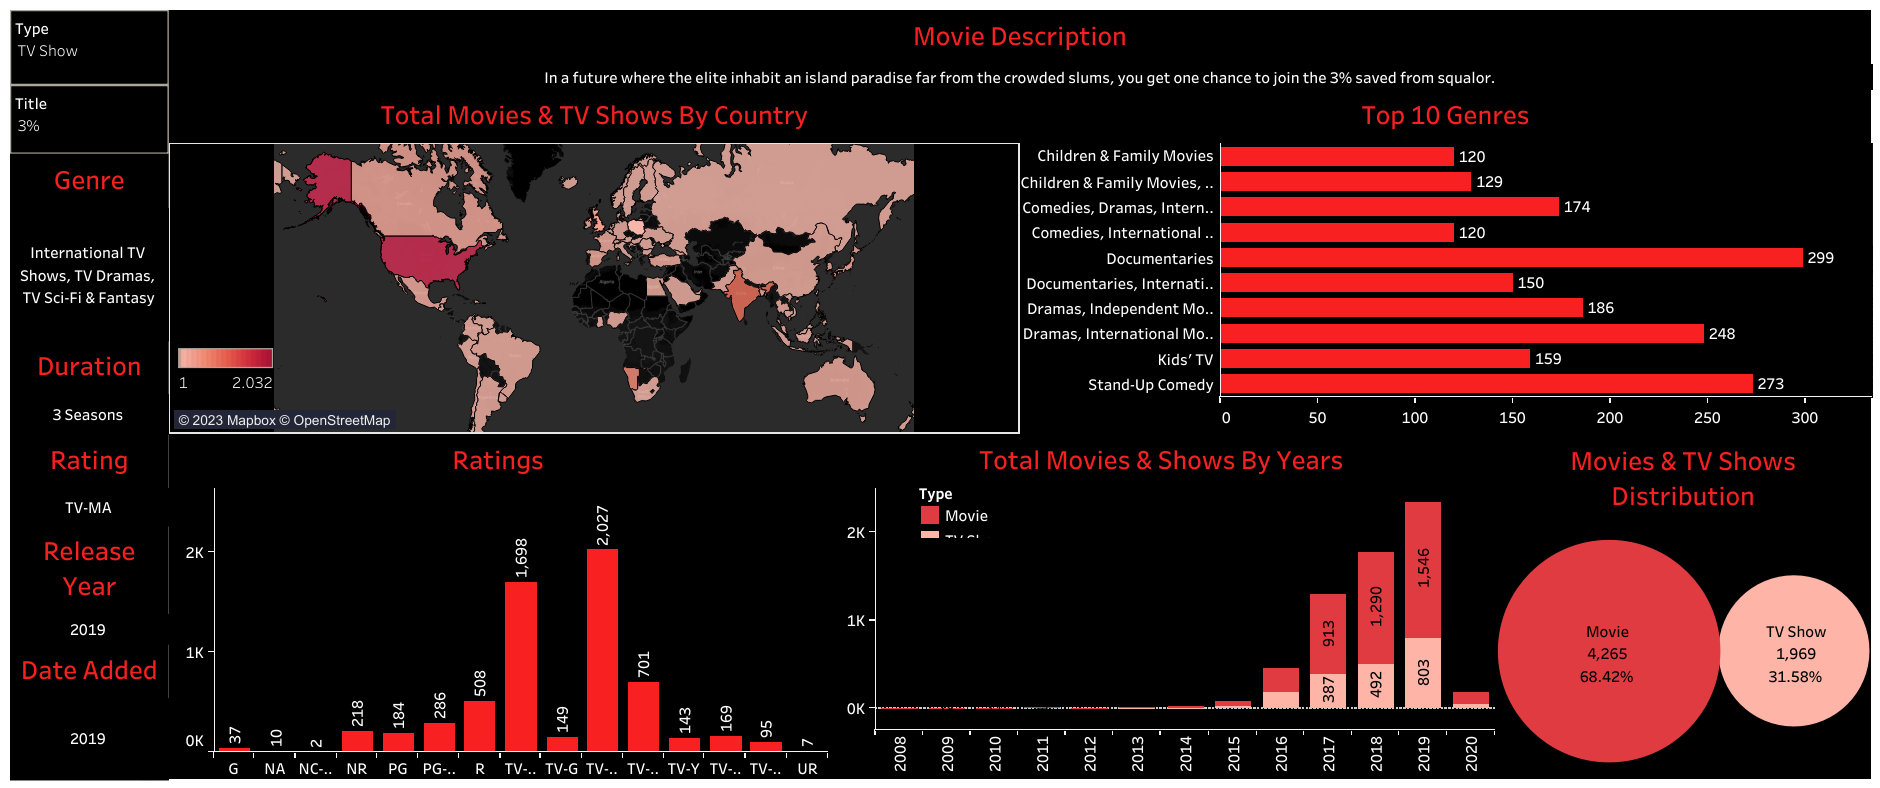

The page's visual inventory and layout, read from the dashboard file:
{"tool":"tableau","page":{"name":"Netflix Dashboard ","canvas":[1000,1000],"units":"permille","ordinal":0},"visuals":[{"type":"filter","title":"Description","param":"[federated.06ifsjf0aghynb113mlad1o4243l].[none:type:nk]","box":[4.2,9.3,84.6,96.4]},{"type":"worksheet","title":"Description","mark":"Automatic","box":[88.9,9.3,906.9,101]},{"type":"filter","title":"Description","param":"[federated.06ifsjf0aghynb113mlad1o4243l].[none:title:nk]","box":[4.2,105.6,84.6,87.1]},{"type":"worksheet","title":"Total Movies & Shows by Countries","mark":"Multipolygon","box":[88.9,110.2,453.3,440.2]},{"type":"worksheet","title":"Top 10 Genres","mark":"Automatic","rows":["listed_in"],"cols":["show_id"],"box":[542.2,110.2,453.6,440.2]},{"type":"worksheet","title":"Genre","mark":"Automatic","box":[4.2,192.7,84.6,238.1]},{"type":"worksheet","title":"Duration","mark":"Automatic","box":[4.2,430.8,84.6,119.7]},{"type":"legend","title":"Total Movies & Shows by Countries","param":"[federated.06ifsjf0aghynb113mlad1o4243l].[ctd:show_id:qk]","box":[92.7,435.5,55.6,55.8]},{"type":"worksheet","title":"Ratings","mark":"Automatic","rows":["show_id"],"cols":["rating"],"box":[88.9,550.4,350.7,440.3]},{"type":"worksheet","title":"Total Movies & Shows by years","mark":"Bar","rows":["show_id"],"cols":["date_added"],"box":[439.6,550.4,355.9,440.3]},{"type":"worksheet","title":"Movies & TV Shows Distribution","mark":"Circle","box":[795.5,550.4,200.3,440.3]},{"type":"worksheet","title":"Rating","mark":"Automatic","box":[4.2,550.5,84.6,116.1]},{"type":"legend","title":"Total Movies & Shows by years","param":"[federated.06ifsjf0aghynb113mlad1o4243l].[none:type:nk]","box":[487.8,607.4,74.2,74.3]},{"type":"worksheet","title":"Release Year","mark":"Automatic","box":[4.2,666.6,84.6,152.2]},{"type":"worksheet","title":"Date Added","mark":"Automatic","box":[4.2,818.8,84.6,171.9]}]}

Visuals, with their boxes on the dashboard's canvas, which has no fixed pixel size, in thousandths of its width and height (x1, y1, x2, y2). These are canvas units, not pixel positions in the 1880x788 screenshot, which may show the page scaled, cropped or inside an application window:
"Description" filter: detection(4, 9, 89, 106)
"Description" worksheet: detection(89, 9, 996, 110)
"Description" filter: detection(4, 106, 89, 193)
"Total Movies & Shows by Countries" worksheet (Multipolygon marks): detection(89, 110, 542, 550)
"Top 10 Genres" worksheet: detection(542, 110, 996, 550)
"Genre" worksheet: detection(4, 193, 89, 431)
"Duration" worksheet: detection(4, 431, 89, 550)
"Total Movies & Shows by Countries" legend: detection(93, 436, 148, 491)
"Ratings" worksheet: detection(89, 550, 440, 991)
"Total Movies & Shows by years" worksheet (Bar marks): detection(440, 550, 796, 991)
"Movies & TV Shows Distribution" worksheet (Circle marks): detection(796, 550, 996, 991)
"Rating" worksheet: detection(4, 550, 89, 667)
"Total Movies & Shows by years" legend: detection(488, 607, 562, 682)
"Release Year" worksheet: detection(4, 667, 89, 819)
"Date Added" worksheet: detection(4, 819, 89, 991)
